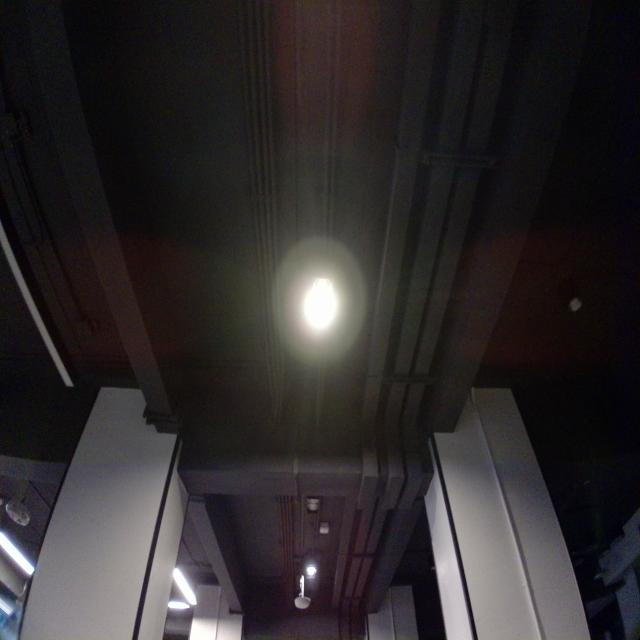lamp1_on: (292, 260, 353, 348)
